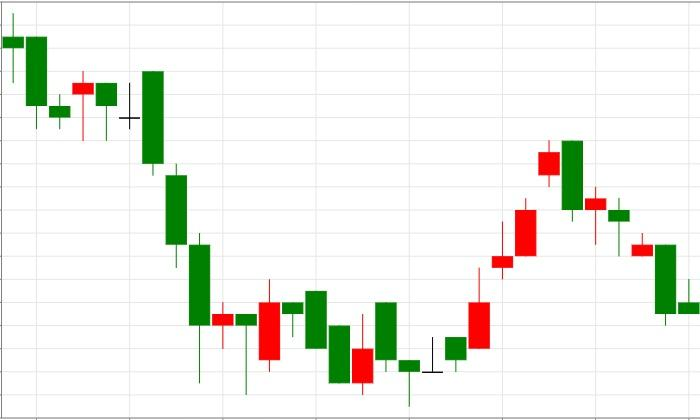bearish_engulfing_fall: (422, 139, 583, 373)
three_black_crows_fall: (49, 70, 210, 383)
